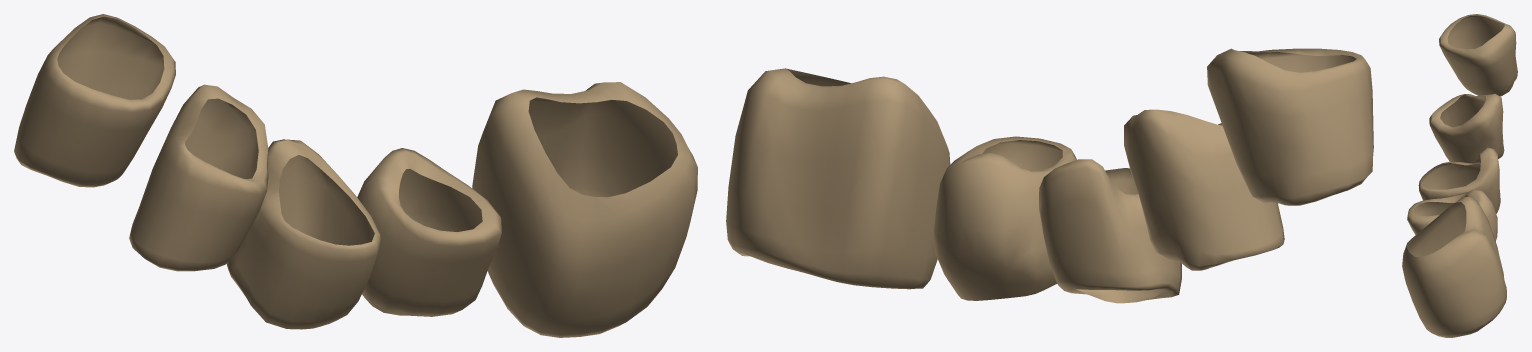
The picture shows the model from 3 angles, left to right: view 1: azimuth 30°, elevation 25°; view 2: azimuth 150°, elevation 25°; view 3: azimuth 270°, elevation 25°; orthographic projection. The views are drawn at different scales.
Parts seen in each view (by area): view 1: 右侧跖趾关节囊; view 2: 右侧跖趾关节囊; view 3: 右侧跖趾关节囊.
Part boxes in pixels (x1,y1,x2,y2): 右侧跖趾关节囊: (14,14,697,337); 右侧跖趾关节囊: (726,48,1373,303); 右侧跖趾关节囊: (1402,14,1517,337).
Size of the model in its own units: 0.119 by 0.067 by 0.0364.
